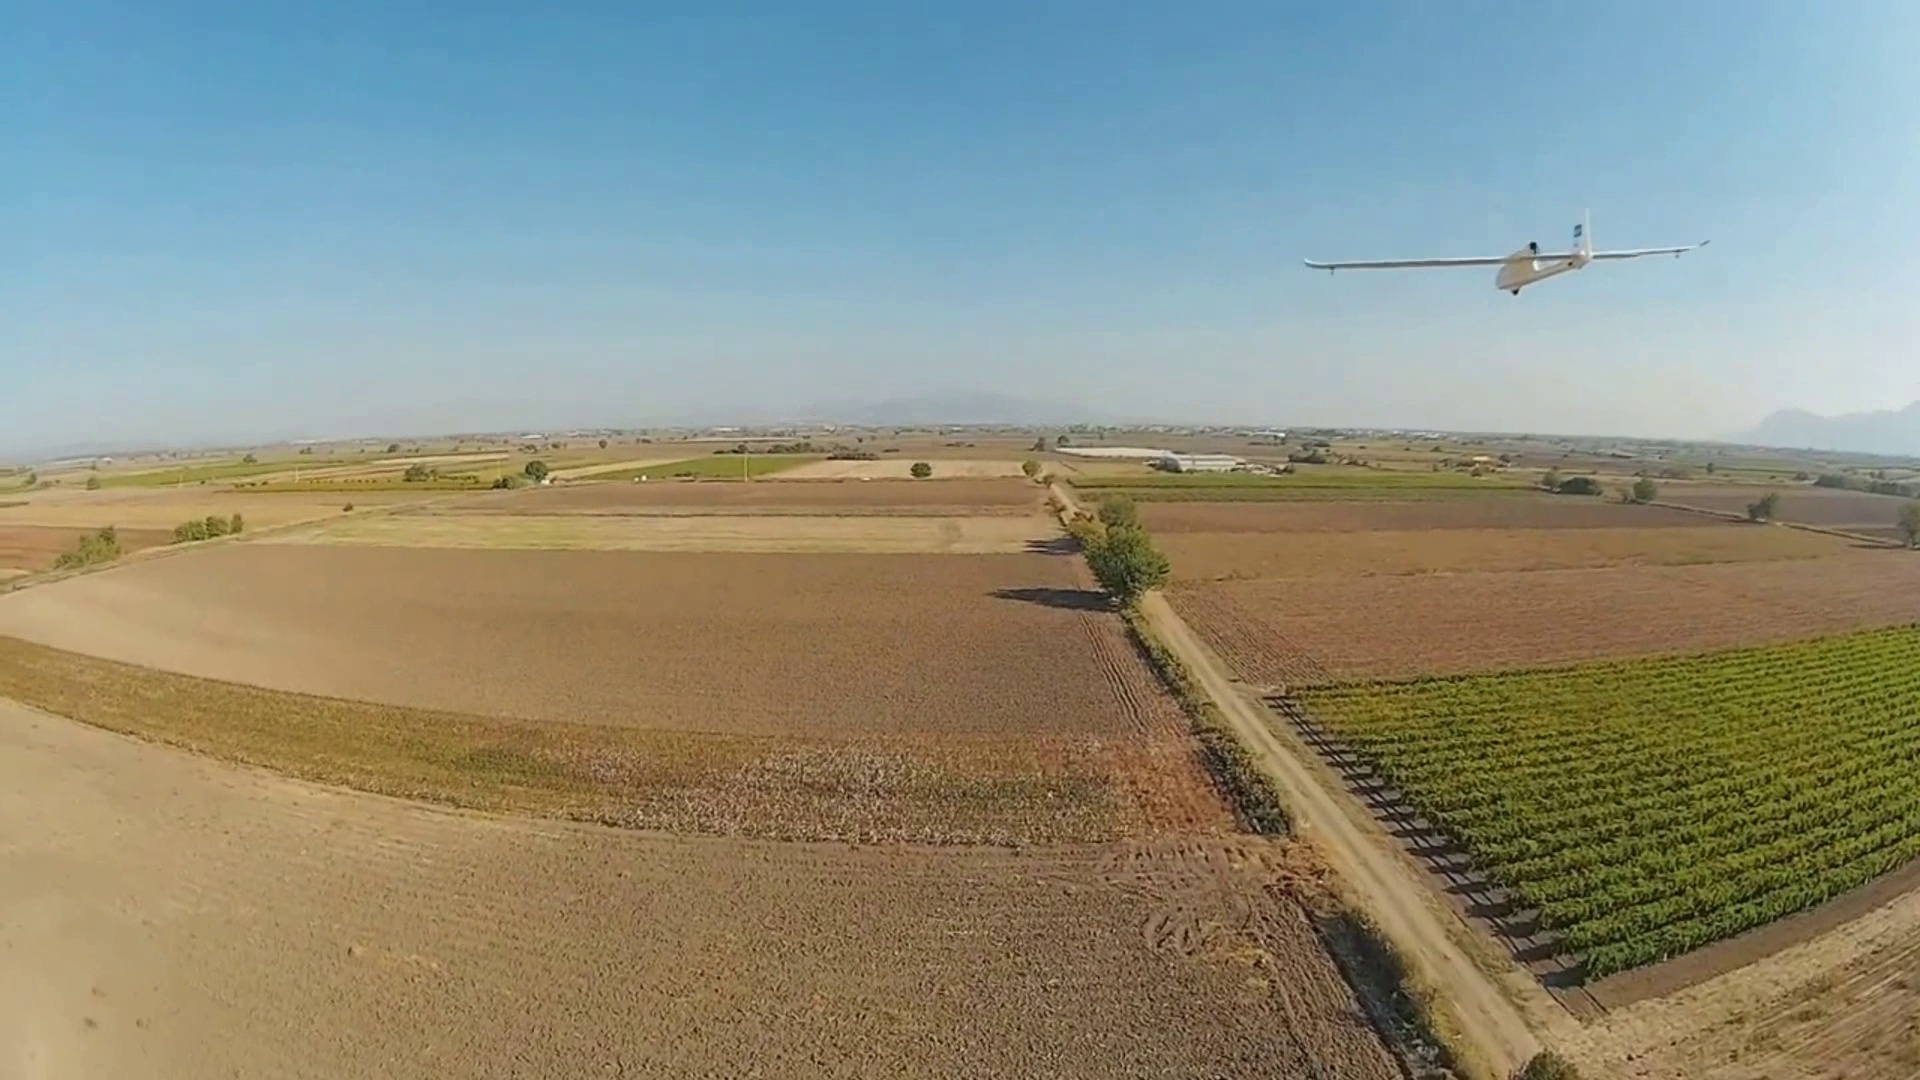airplane: (1300, 207, 1706, 298)
